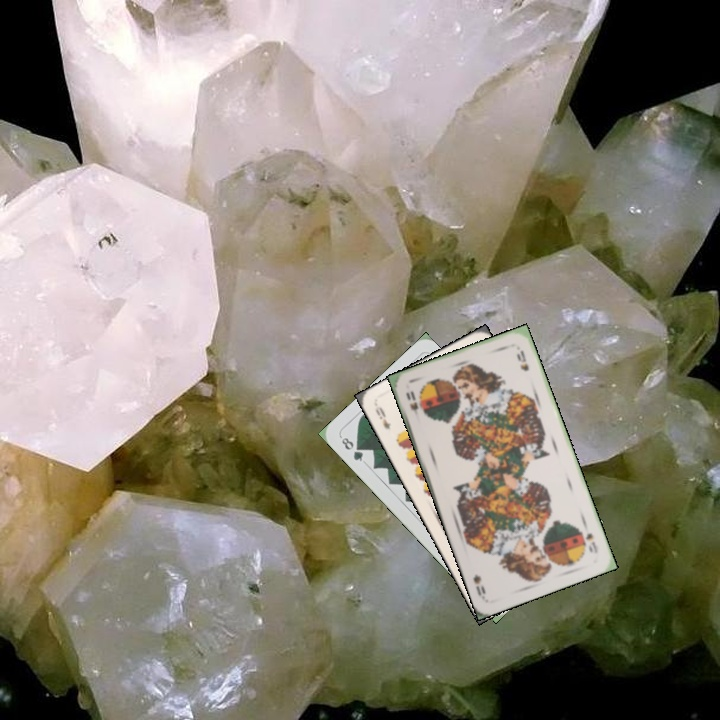E9: (371, 402, 393, 432)
G8: (336, 432, 366, 464)
SO: (402, 386, 423, 423), (581, 519, 601, 556)
